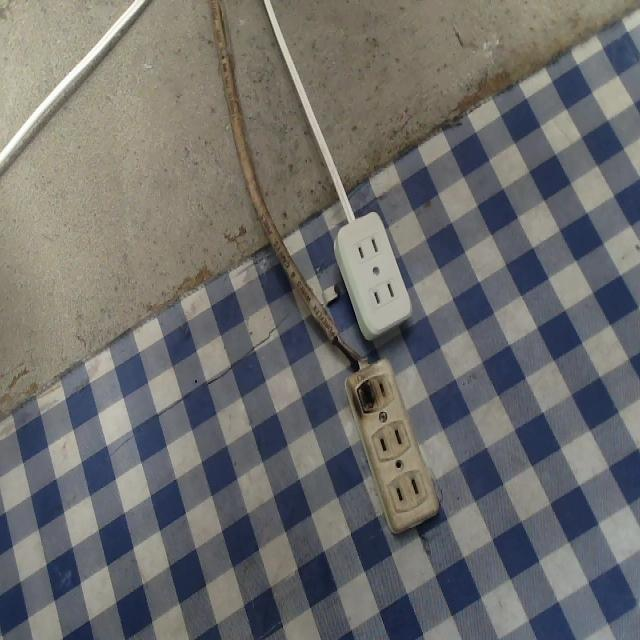-: (351, 369, 380, 420)
